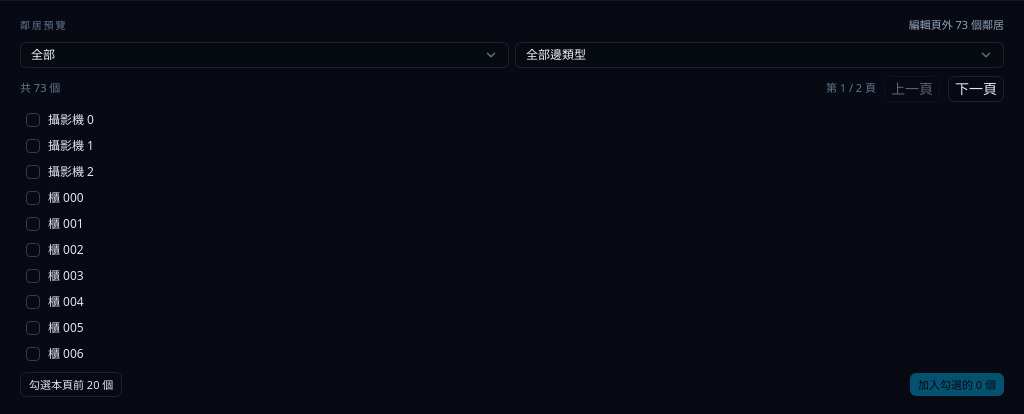
Test case: NeighborPicker 一跳鄰居預覽 › 方向／邊類型篩選、每頁 50、完整外部數；預設不勾，不自動加入
Expected: the text "編輯頁外 73 個鄰居" is shown, x1=909 y1=17 x2=1004 y2=34
Expected: the text "共 73 個 第 1 / 2 頁 上一頁 下一頁" is shown, x1=20 y1=76 x2=1004 y2=102
Step 1. Click the button "下一頁" → (976, 88), box x1=948 y1=76 x2=1004 y2=102
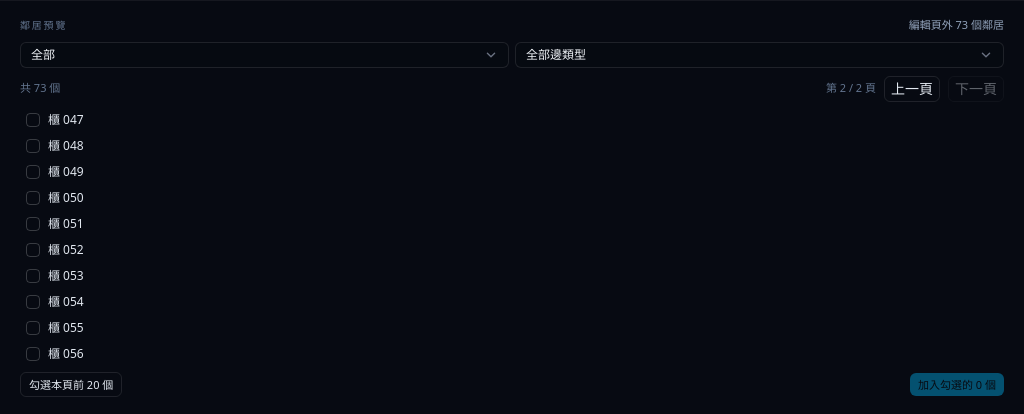
Step 2. Select "連入" in the dropdown named "方向" → (264, 54), box x1=20 y1=42 x2=509 y2=68
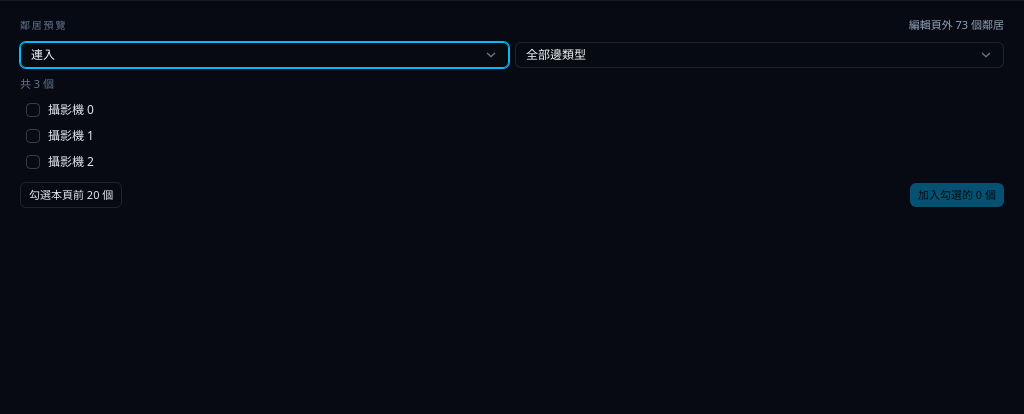
Now the text "共 3 個" is shown, box x1=20 y1=76 x2=54 y2=90
Step 3. Select "全部" in the dropdown named "方向" → (264, 54), box x1=20 y1=42 x2=509 y2=68
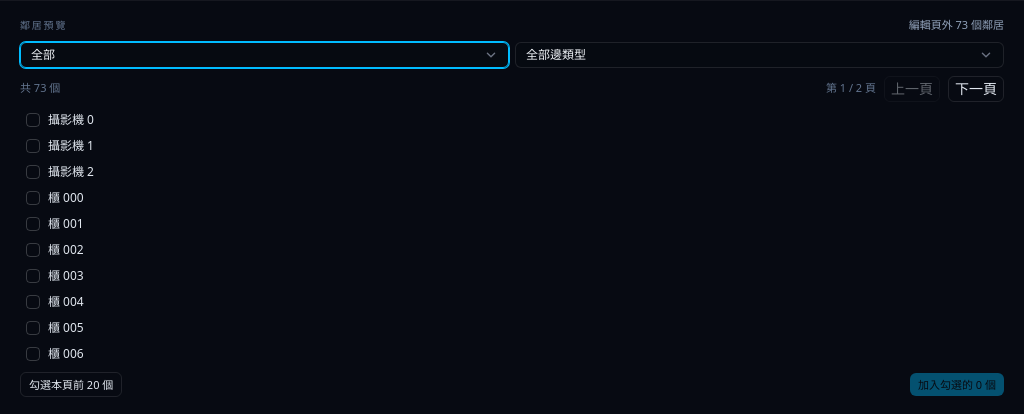
Step 4. Select "監測" in the dropdown named "邊類型" → (760, 54), box x1=515 y1=42 x2=1004 y2=68
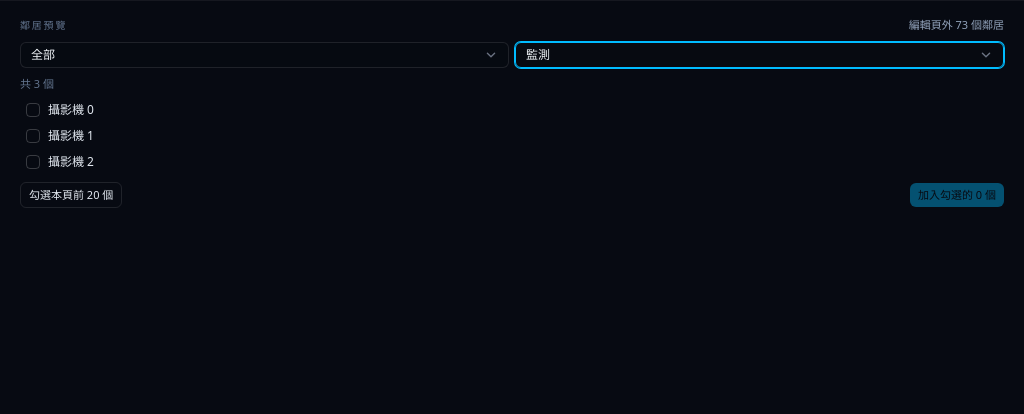
Now the text "共 3 個" is shown, box x1=20 y1=76 x2=54 y2=90
